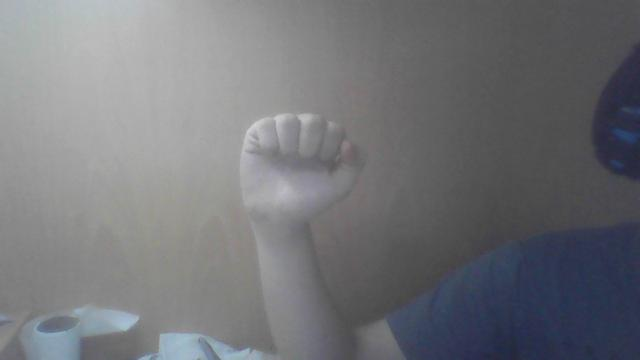forward: (239, 111, 365, 227)
